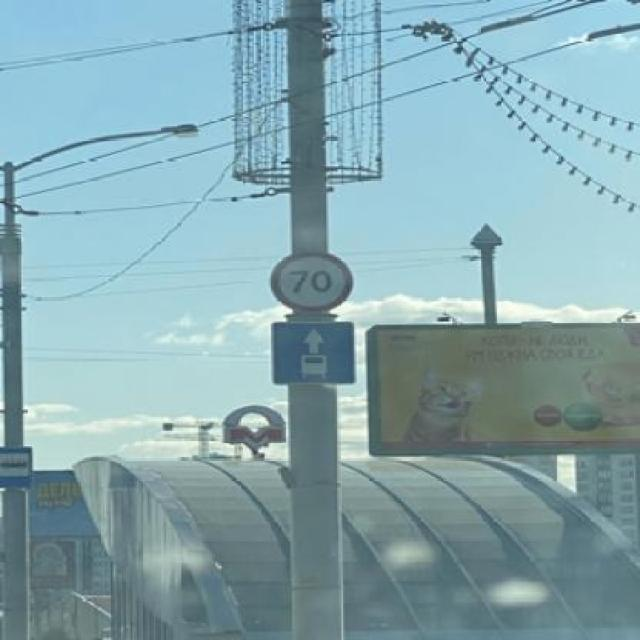forb_speed_over_70: (267, 251, 355, 312)
